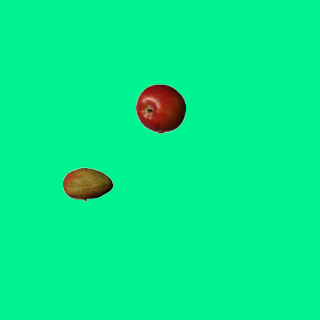Apple Braeburn: (135, 83, 185, 133)
Papaya: (62, 159, 112, 209)
